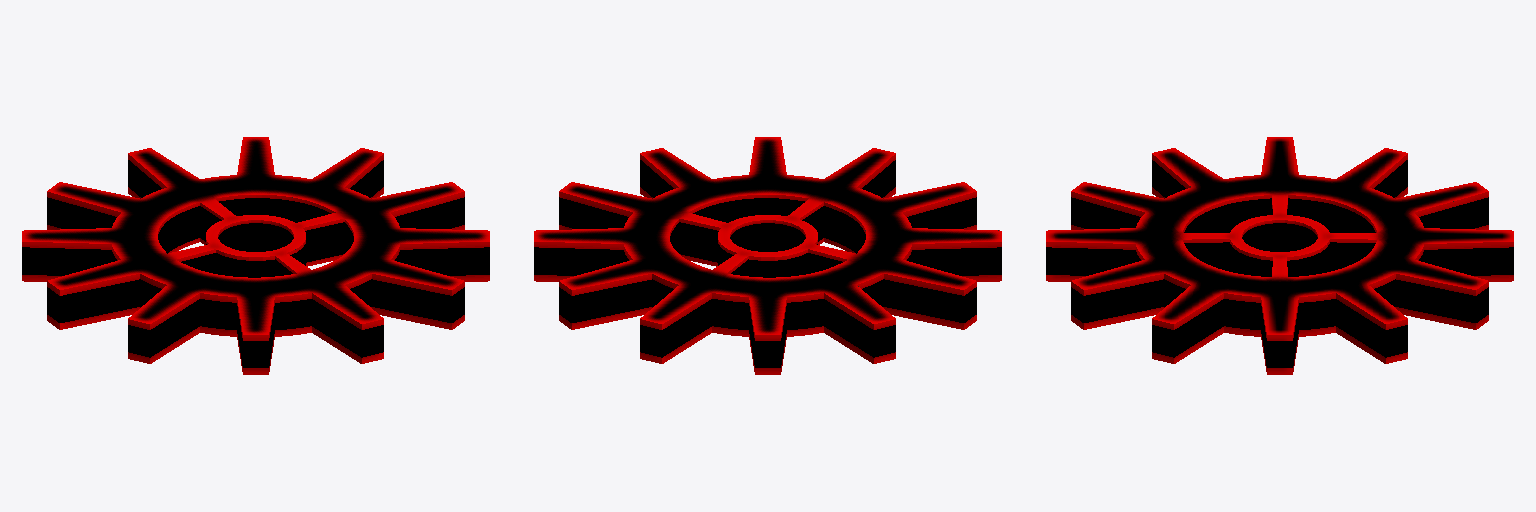
The picture shows the model from 3 angles: view 1: azimuth 30°, elevation 25°; view 2: azimuth 150°, elevation 25°; view 3: azimuth 270°, elevation 25°; orthographic projection.
Visible parts, largest first — view 1: cog-vr-red; view 2: cog-vr-red; view 3: cog-vr-red.
Boxes of the visible parts, <box> form: cog-vr-red: <box>22,137,489,374</box>; cog-vr-red: <box>534,137,1001,374</box>; cog-vr-red: <box>1046,137,1513,374</box>.
Bounding box in the file's own units: 2 × 0.1875 × 2.
1 materials, 1 textured.